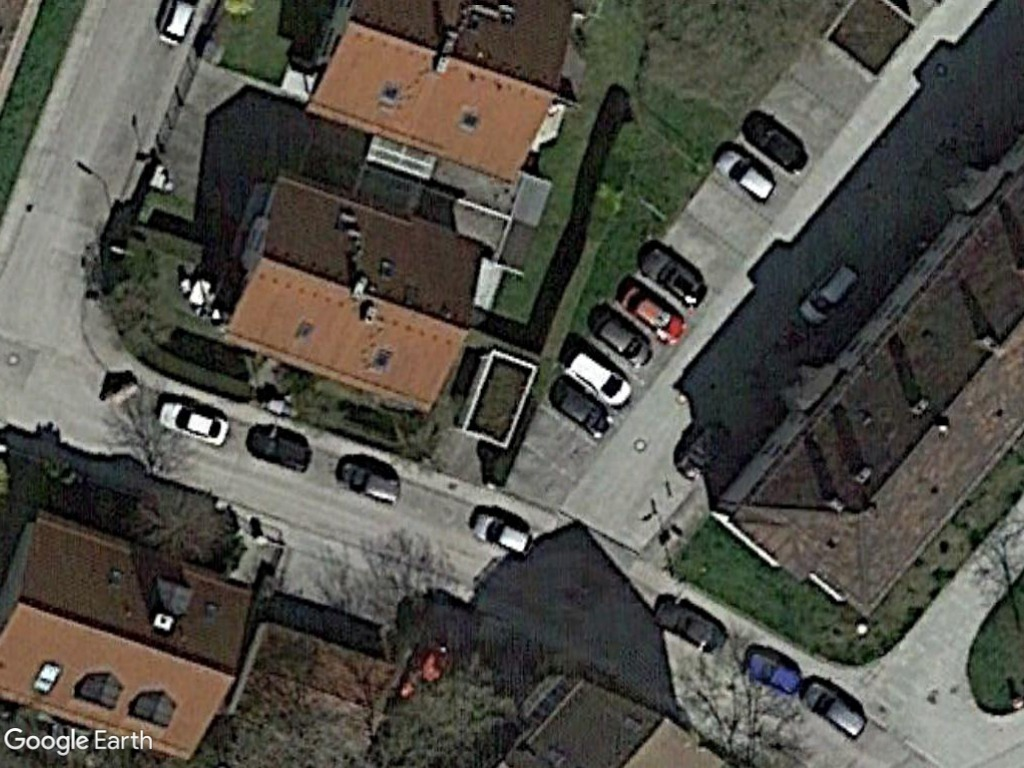car: (631, 245, 708, 308), (617, 282, 691, 347), (800, 677, 869, 743), (563, 349, 633, 409), (156, 398, 235, 449), (464, 508, 539, 561), (711, 147, 778, 206), (590, 313, 658, 371), (334, 456, 406, 508)
